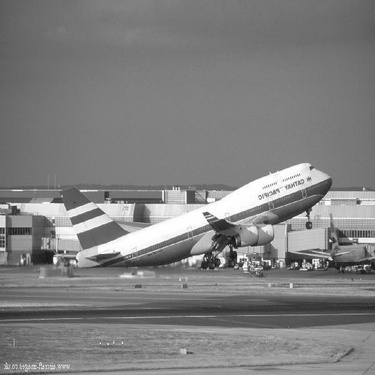airplane: (28, 122, 345, 284), (273, 205, 373, 276)
